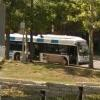Bus: (7, 30, 88, 69)
